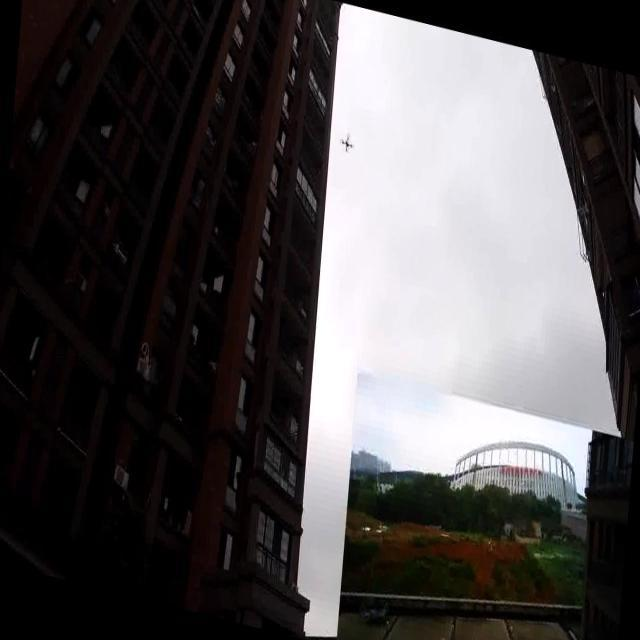drone: (336, 126, 358, 164)
